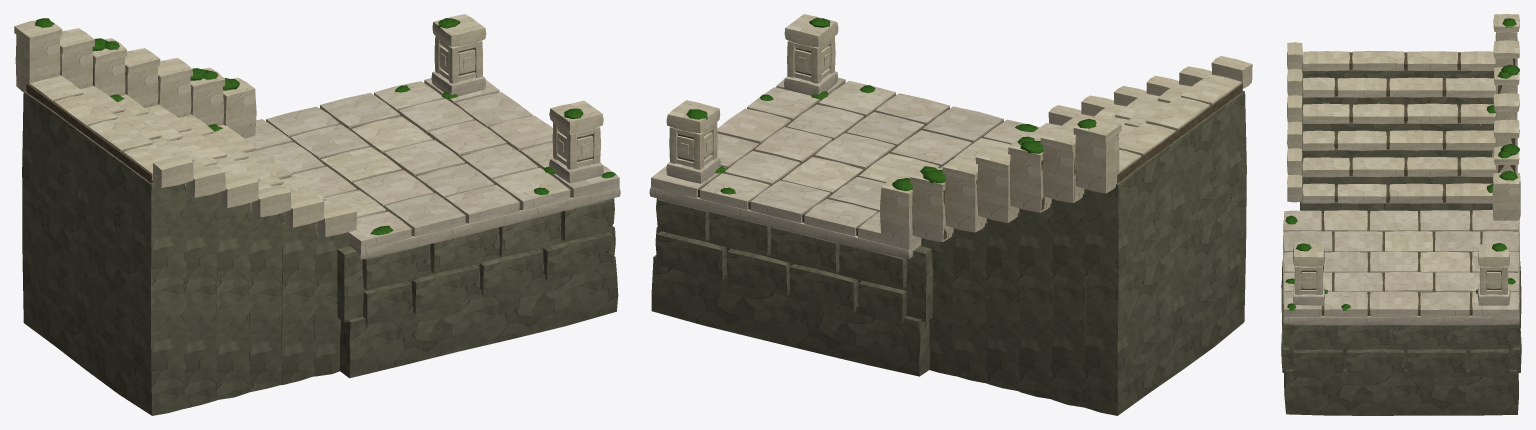
3 views of the same model, side by side, from view 1: azimuth 30°, elevation 25°; view 2: azimuth 150°, elevation 25°; view 3: azimuth 270°, elevation 25° (orthographic). The views are drawn at different scales.
Visible parts, largest first — view 1: Mesh_DockDampFoundation, Mesh_DockLimestone, Mesh_DockCarvedGrout, Mesh_DockMossCushions; view 2: Mesh_DockDampFoundation, Mesh_DockLimestone, Mesh_DockCarvedGrout, Mesh_DockMossCushions; view 3: Mesh_DockLimestone, Mesh_DockDampFoundation, Mesh_DockCarvedGrout, Mesh_DockMossCushions.
Boxes of the visible parts, x1,y1,x2,y2 form: Mesh_DockDampFoundation: (22, 91, 618, 415); Mesh_DockLimestone: (14, 14, 620, 259); Mesh_DockCarvedGrout: (26, 44, 592, 236); Mesh_DockMossCushions: (35, 18, 616, 235); Mesh_DockDampFoundation: (651, 91, 1246, 415); Mesh_DockLimestone: (649, 14, 1252, 259); Mesh_DockCarvedGrout: (678, 45, 1242, 239); Mesh_DockMossCushions: (686, 17, 1096, 194); Mesh_DockLimestone: (1283, 14, 1520, 325); Mesh_DockDampFoundation: (1281, 65, 1521, 415); Mesh_DockCarvedGrout: (1286, 52, 1516, 315); Mesh_DockMossCushions: (1285, 18, 1519, 310).
Bounding box in the file's own units: 5.64 × 3.44 × 3.25.
4 materials, 4 textured.
